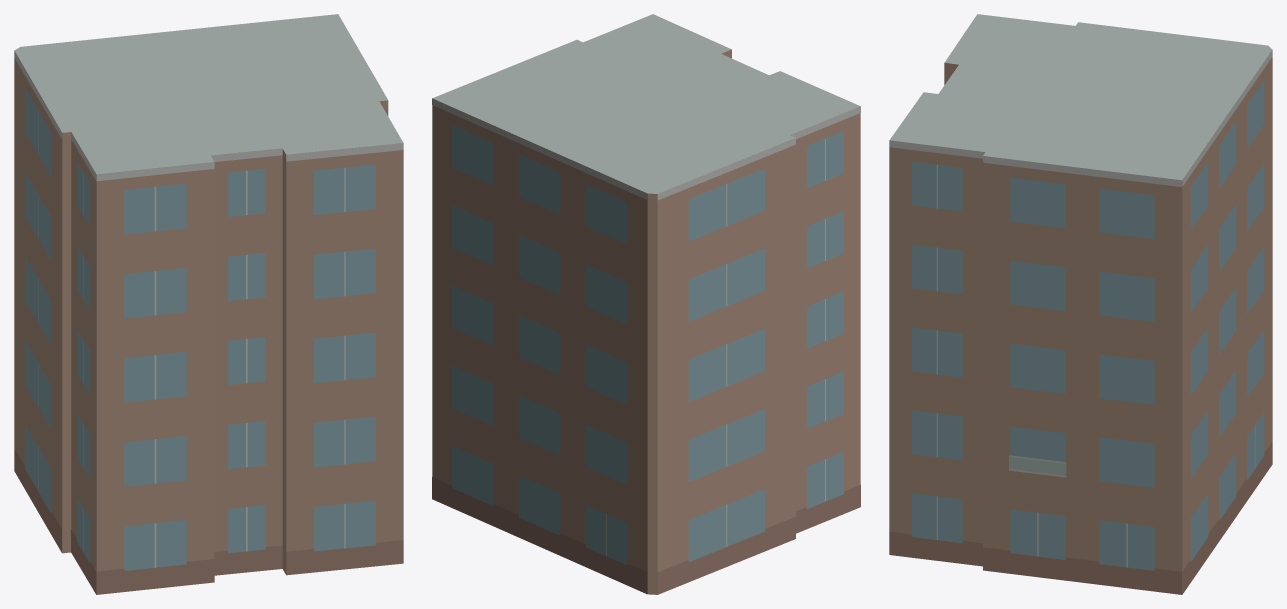
Rendered from survey-upis-32872543.glb.
3 renders of one model, left to right at view 1: azimuth 30°, elevation 25°; view 2: azimuth 150°, elevation 25°; view 3: azimuth 270°, elevation 25°, orthographic. The views are drawn at different scales.
Visible parts, largest first — view 1: survey-upis-32872543.tmp; view 2: survey-upis-32872543.tmp; view 3: survey-upis-32872543.tmp.
Part boxes in pixels (x1,y1,x2,y2): survey-upis-32872543.tmp: (14,14,403,594); survey-upis-32872543.tmp: (432,14,860,594); survey-upis-32872543.tmp: (889,14,1272,594).
Size of the model in its own units: 12.74 by 14.8 by 12.41.
